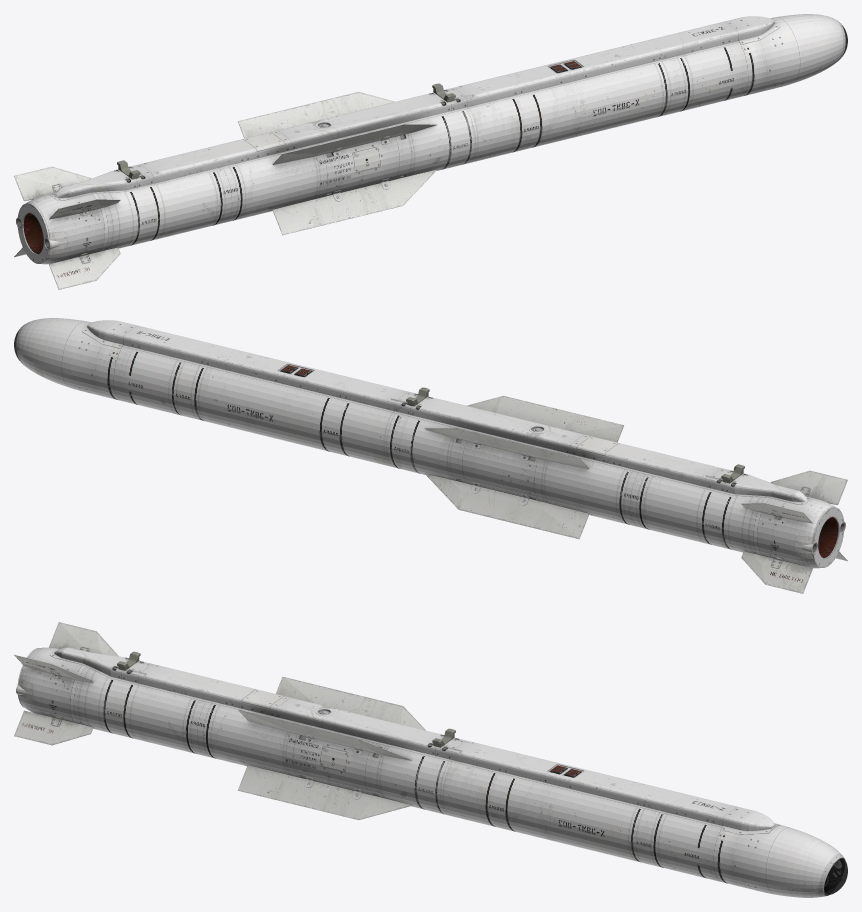
The picture shows the model from 3 angles, top to bottom: view 1: azimuth 30°, elevation 25°; view 2: azimuth 150°, elevation 25°; view 3: azimuth 330°, elevation 25°; orthographic projection.
Parts seen in each view (by area): view 1: su_kh38_mt_missile_1_0; view 2: su_kh38_mt_missile_1_0; view 3: su_kh38_mt_missile_1_0, su_kh38_mt_missile_1_1.
Part boxes in pixels (x1,y1,x2,y2): su_kh38_mt_missile_1_0: (14, 14, 845, 289); su_kh38_mt_missile_1_0: (16, 318, 847, 593); su_kh38_mt_missile_1_0: (14, 622, 845, 897); su_kh38_mt_missile_1_1: (824, 858, 847, 895).
Bounding box in the file's own units: 4.17 × 0.4137 × 0.4002.
